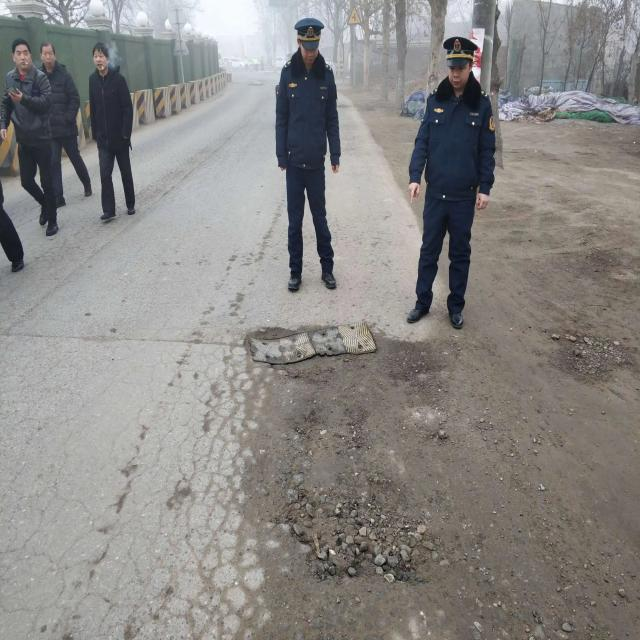Pothole: (289, 408, 431, 588), (245, 324, 408, 383), (559, 336, 635, 386)
